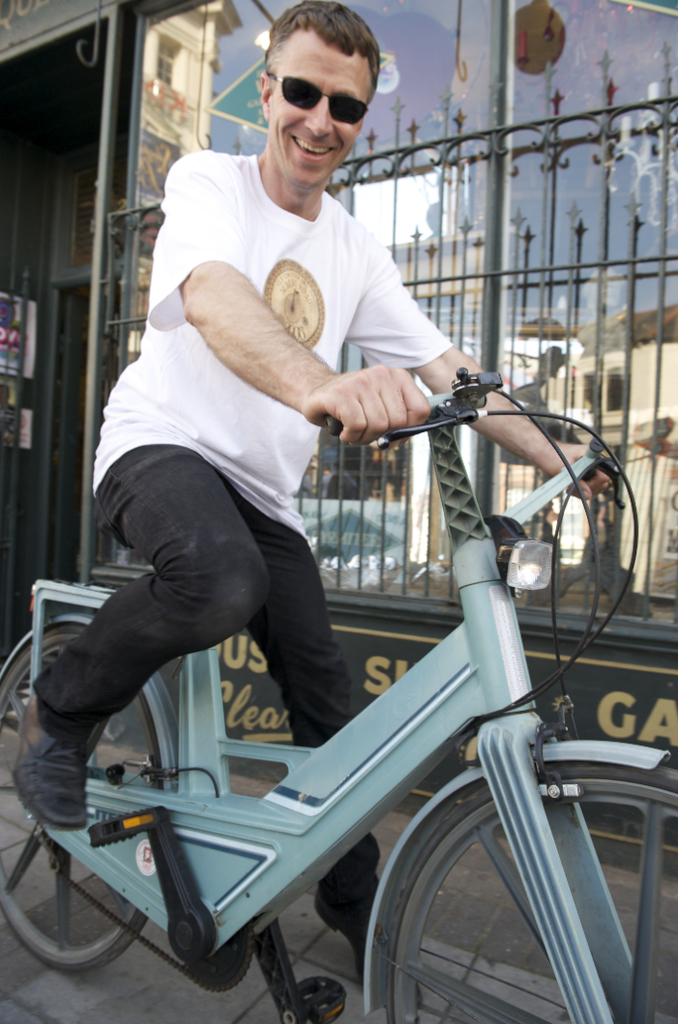Bike_toward: (12, 371, 665, 1009)
